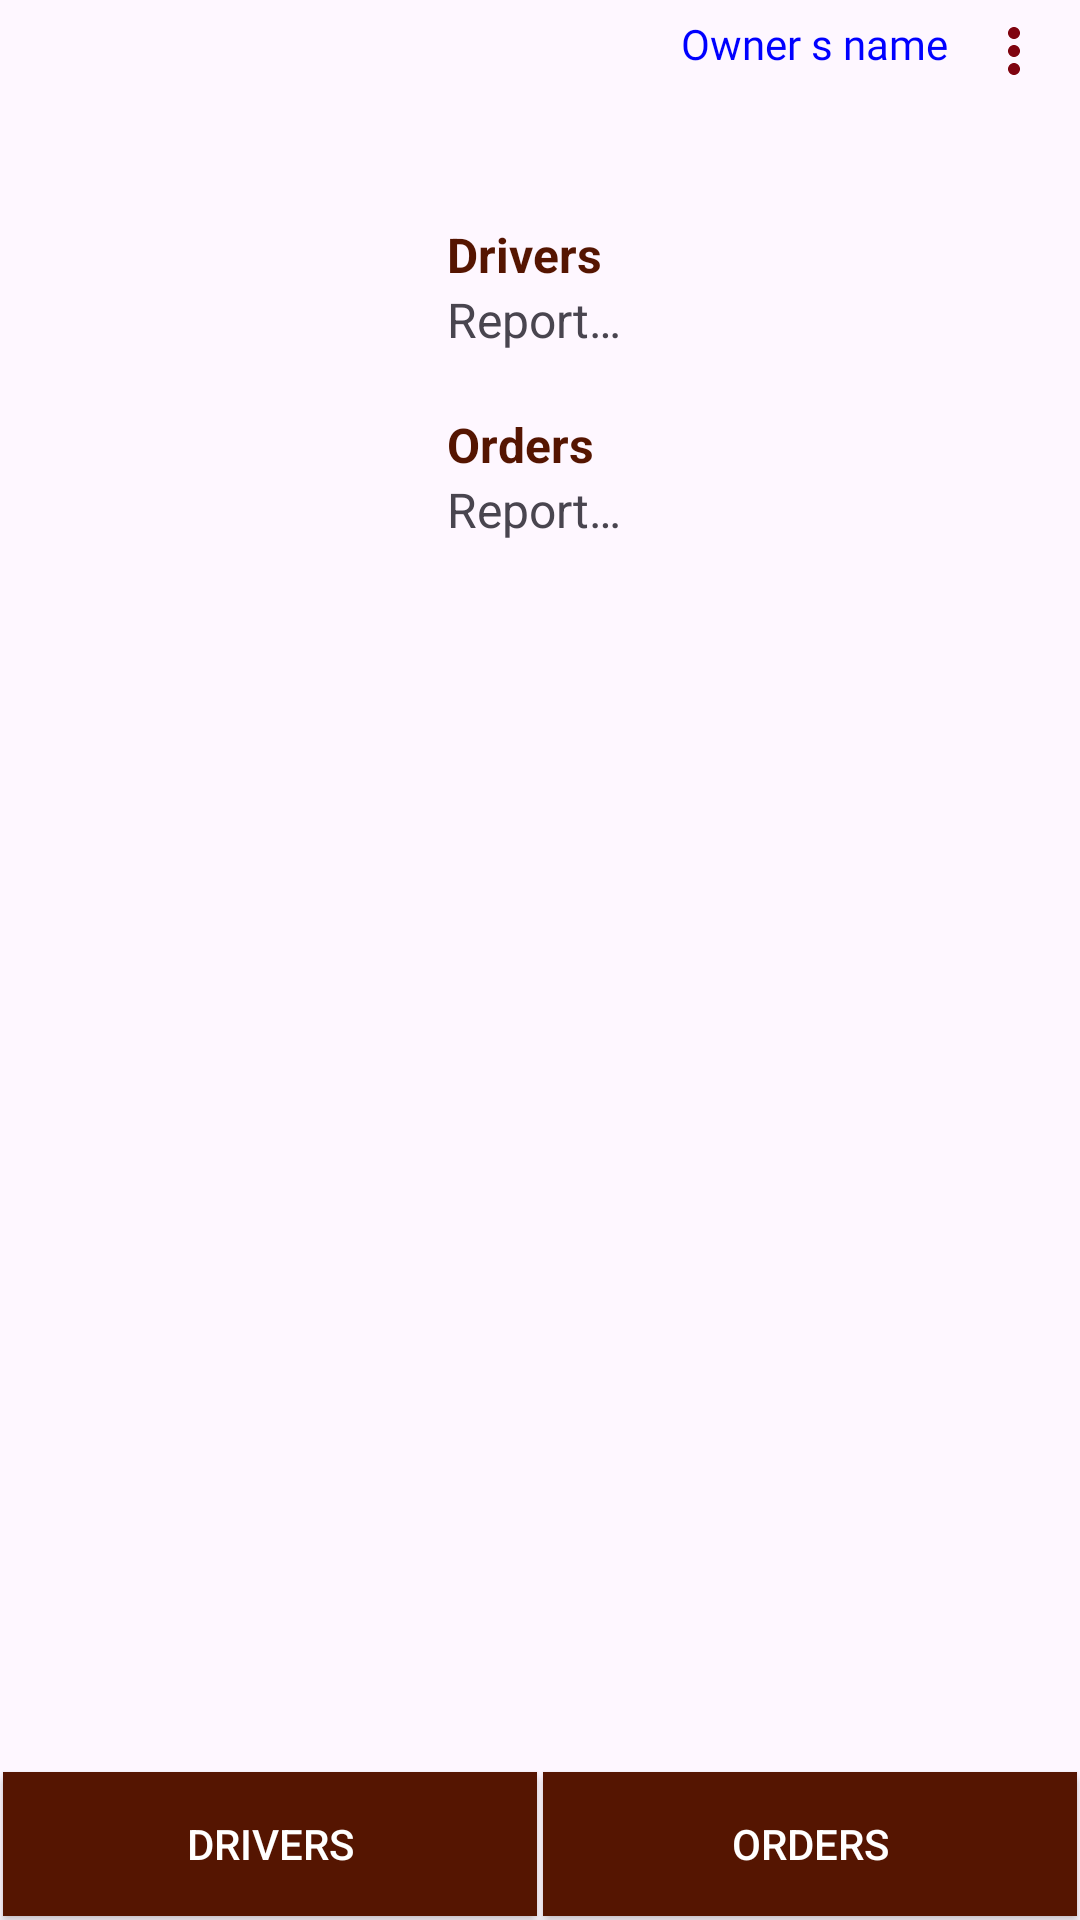

Named icons in this screenshot (1080×1920) and their bounding boxes, (left=x1, top=y1, right=x2, bottom=y2):
more vert: (left=1008, top=27, right=1020, bottom=75)
